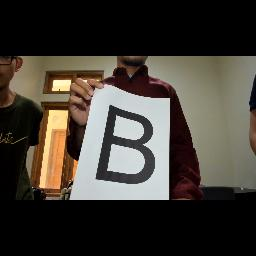b: (95, 104, 161, 192)
